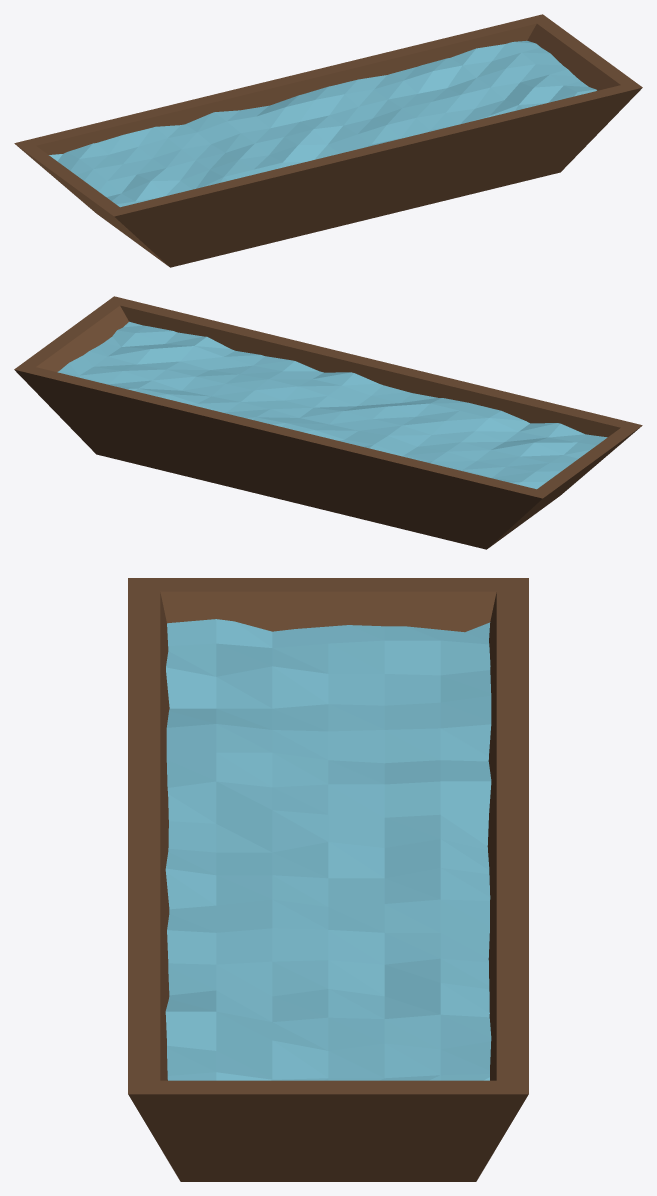
Rendered from Horse_tray_2_mat.fbx.
3 renders of one model, top to bottom at view 1: azimuth 30°, elevation 25°; view 2: azimuth 150°, elevation 25°; view 3: azimuth 270°, elevation 25°, orthographic. The views are drawn at different scales.
Parts seen in each view (by area): view 1: Horse_tray_2_mat; view 2: Horse_tray_2_mat; view 3: Horse_tray_2_mat.
Part boxes in pixels (left/top/right/bottom): Horse_tray_2_mat: left=14, top=14, right=642, bottom=267; Horse_tray_2_mat: left=14, top=296, right=642, bottom=549; Horse_tray_2_mat: left=128, top=578, right=528, bottom=1181.
Bounding box in the file's own units: 171 × 24.03 × 56.21.
